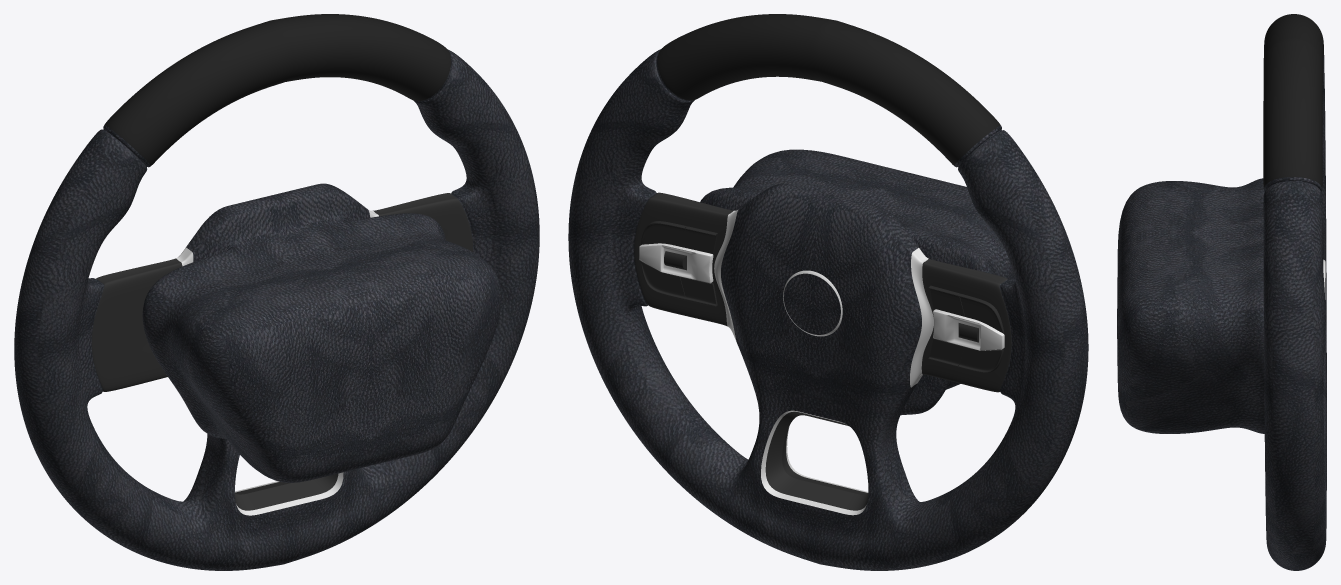
Rendered from steering-racing.glb.
3 renders of one model, left to right at view 1: azimuth 30°, elevation 25°; view 2: azimuth 150°, elevation 25°; view 3: azimuth 270°, elevation 25°, orthographic. The views are drawn at different scales.
Visible parts, largest first — view 1: Torus.001_Brushed Steel_0; view 2: Torus.001_Brushed Steel_0; view 3: Torus.001_Brushed Steel_0.
Part boxes in pixels (<box>): Torus.001_Brushed Steel_0: <box>14,14,539,570</box>; Torus.001_Brushed Steel_0: <box>568,14,1088,570</box>; Torus.001_Brushed Steel_0: <box>1117,14,1326,570</box>.
Bounding box in the file's own units: 0.3964 × 0.3975 × 0.1494.
Materials: 5 (1 with a texture image).
